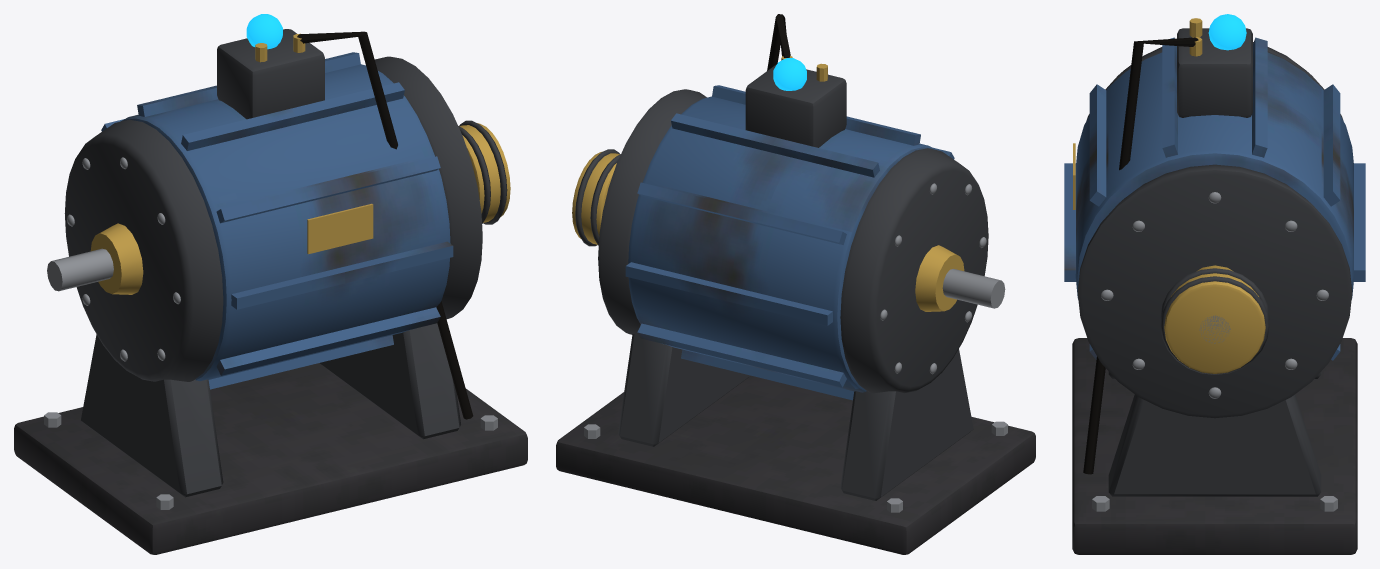
Rendered from electric_motor_mini.glb.
3 views of the same model, side by side, from view 1: azimuth 30°, elevation 25°; view 2: azimuth 150°, elevation 25°; view 3: azimuth 270°, elevation 25° (orthographic). The views are drawn at different scales.
Visible parts, largest first — view 1: electric_motor_mini_static; view 2: electric_motor_mini_static; view 3: electric_motor_mini_static.
Boxes of the visible parts, x1,y1,x2,y2 form: electric_motor_mini_static: [14, 14, 527, 554]; electric_motor_mini_static: [556, 14, 1035, 554]; electric_motor_mini_static: [1064, 14, 1365, 554].
Size of the model in its own units: 0.8 by 0.7831 by 0.475.
Materials: 8 (4 with a texture image).
